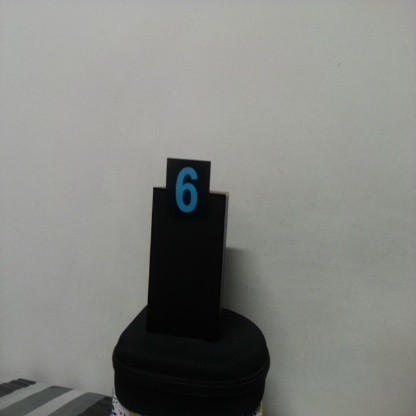id_6: (165, 159, 211, 229)
